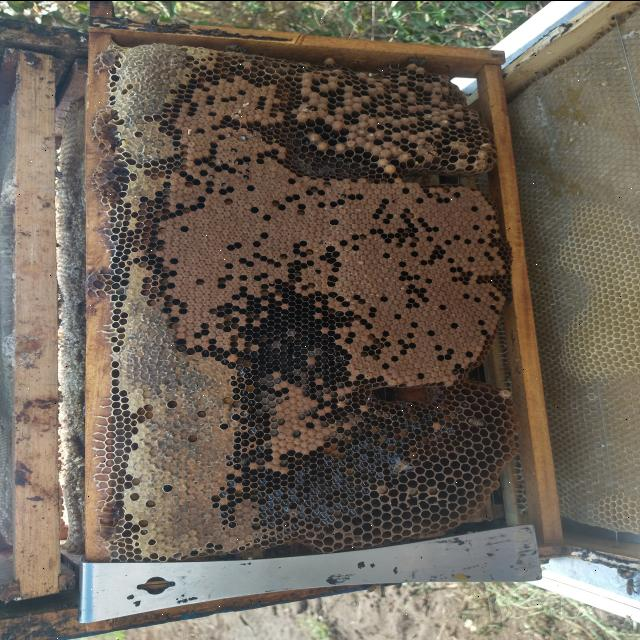cria: (156, 77, 506, 473), (291, 62, 486, 172), (374, 439, 485, 505)
marco: (112, 34, 541, 594)
